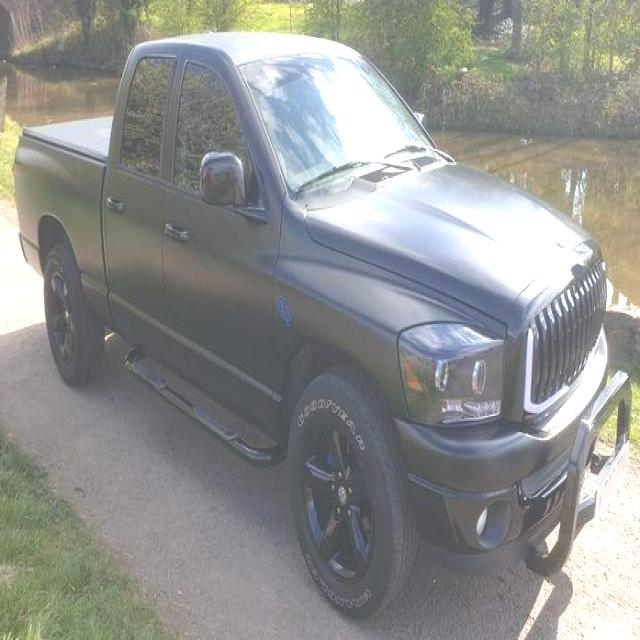CMT: (16, 36, 624, 611)
